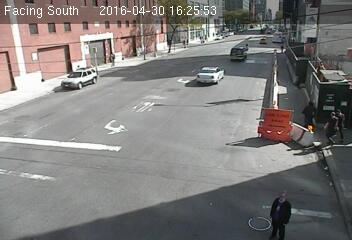neg: (142, 32, 157, 52), (204, 27, 218, 47), (131, 45, 145, 63), (113, 27, 127, 44), (246, 27, 260, 44), (47, 32, 60, 50), (187, 66, 200, 84), (83, 55, 96, 72), (24, 51, 36, 66), (61, 59, 72, 74), (231, 25, 242, 39), (163, 37, 171, 49), (198, 32, 206, 43), (30, 33, 36, 41)
pos: (264, 190, 300, 239), (299, 98, 326, 133), (320, 111, 346, 145), (106, 52, 117, 66), (280, 44, 289, 56), (244, 41, 252, 52), (182, 38, 189, 47)
